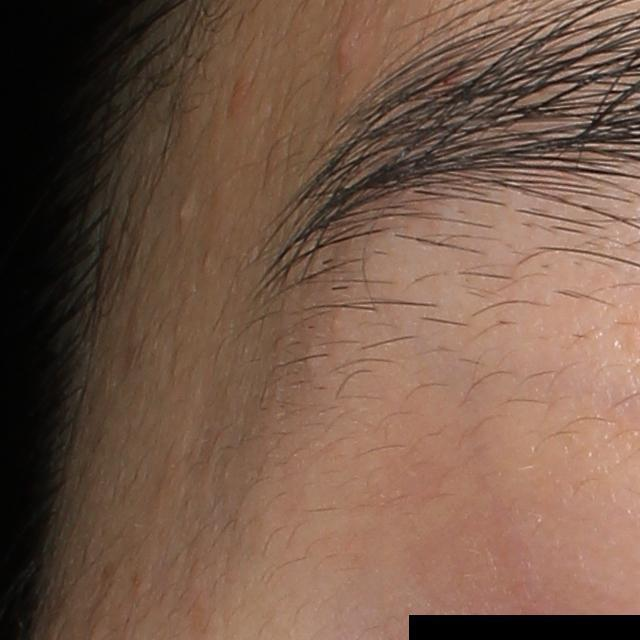comedo: (176, 196, 191, 229)
papule: (332, 17, 364, 69)
